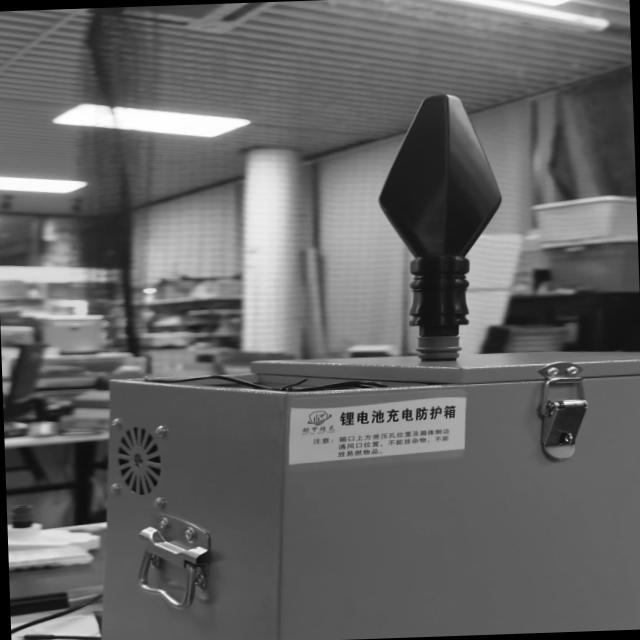base: (413, 333, 461, 362)
